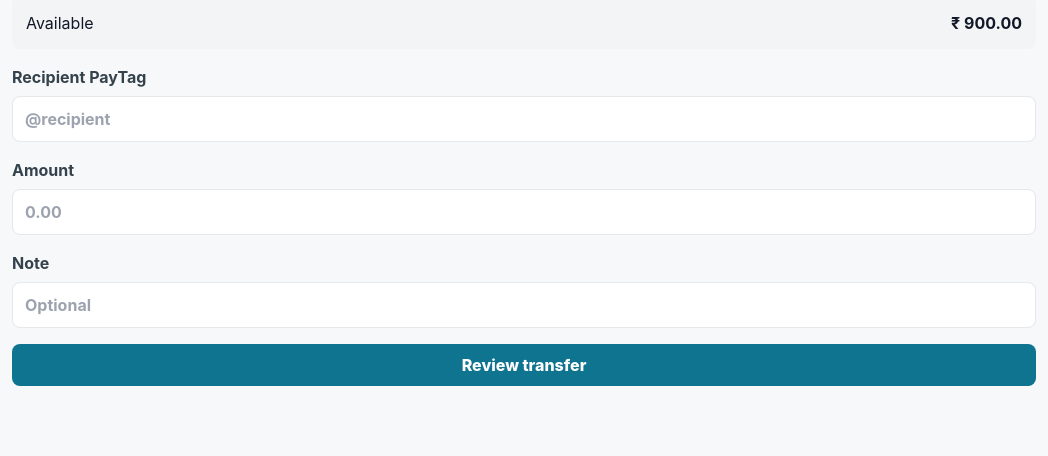
Test: SendMoneyForm › blocks review when the amount is greater than the available balance
This screenshot has width=1048, height=456.
In the field labelled "Recipient PayTag": coordinates (524, 119) [12,96,1036,142], type "@receiver"
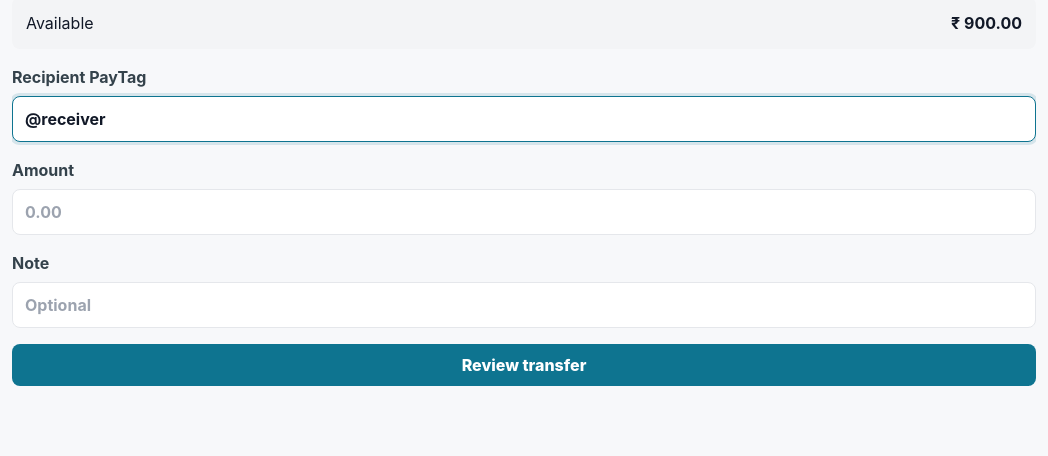
In the field labelled "Amount": coordinates (524, 212) [12,189,1036,235], type "901.00"
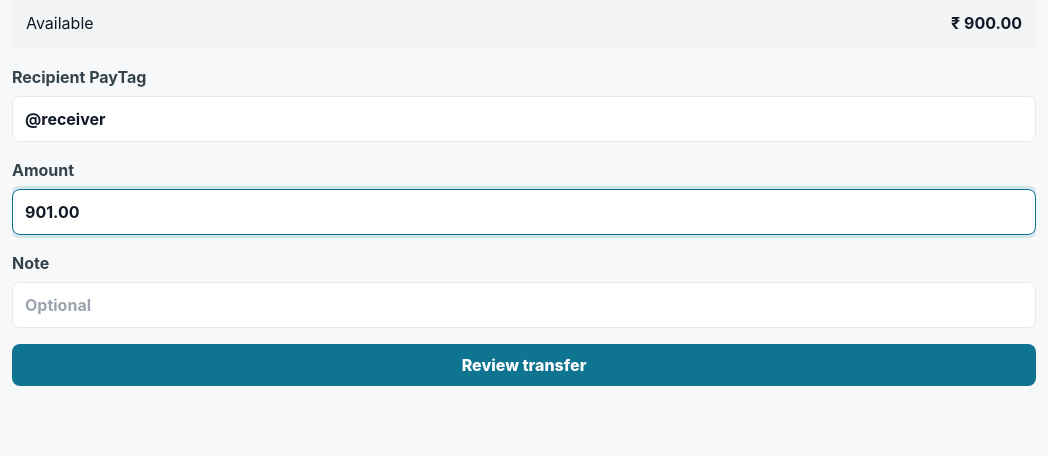
Click the button "Review transfer": coordinates (524, 365) [12,344,1036,386]
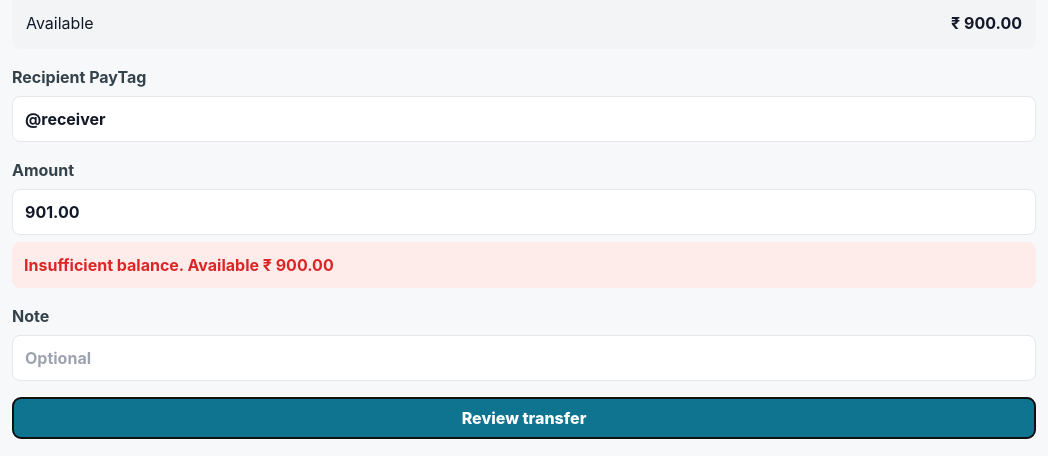
Expected: the text "Insufficient balance. Available ₹ 900.00" is shown, [12,242,1036,288]
